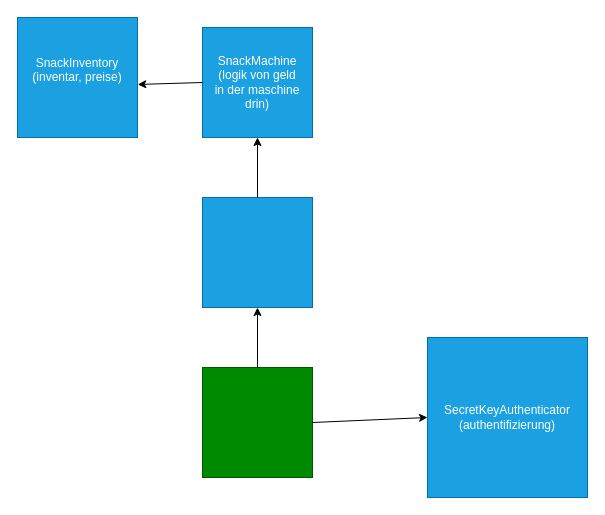
Image size: 605x515. Some labels were removed from this diagram. Here are the shapes that lost their labels. From the top down, the centre of each, then its label:
point (257, 252): Customer (logik von geld vom einkaudendem)
point (257, 422): UI (user interface)
